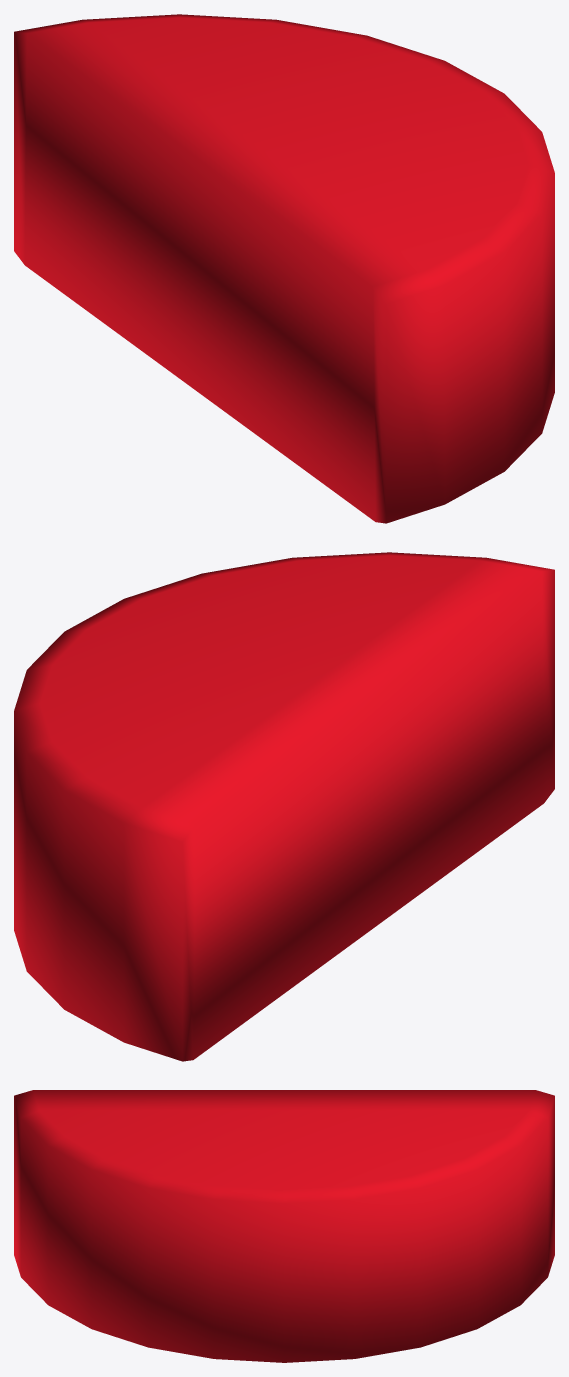
Rendered from MezzaFormaFormaggioStagionato.fbx.
3 views of the same model, one above another, from view 1: azimuth 30°, elevation 25°; view 2: azimuth 150°, elevation 25°; view 3: azimuth 270°, elevation 25° (orthographic). The views are drawn at different scales.
Visible parts, largest first — view 1: MezzaFormaFormaggio.001; view 2: MezzaFormaFormaggio.001; view 3: MezzaFormaFormaggio.001.
Part boxes in pixels (box(x1,y1,x2,y2)): MezzaFormaFormaggio.001: box(14, 14, 554, 523); MezzaFormaFormaggio.001: box(14, 552, 554, 1061); MezzaFormaFormaggio.001: box(14, 1090, 554, 1362).
Bounding box in the file's own units: 365 × 267 × 772.
